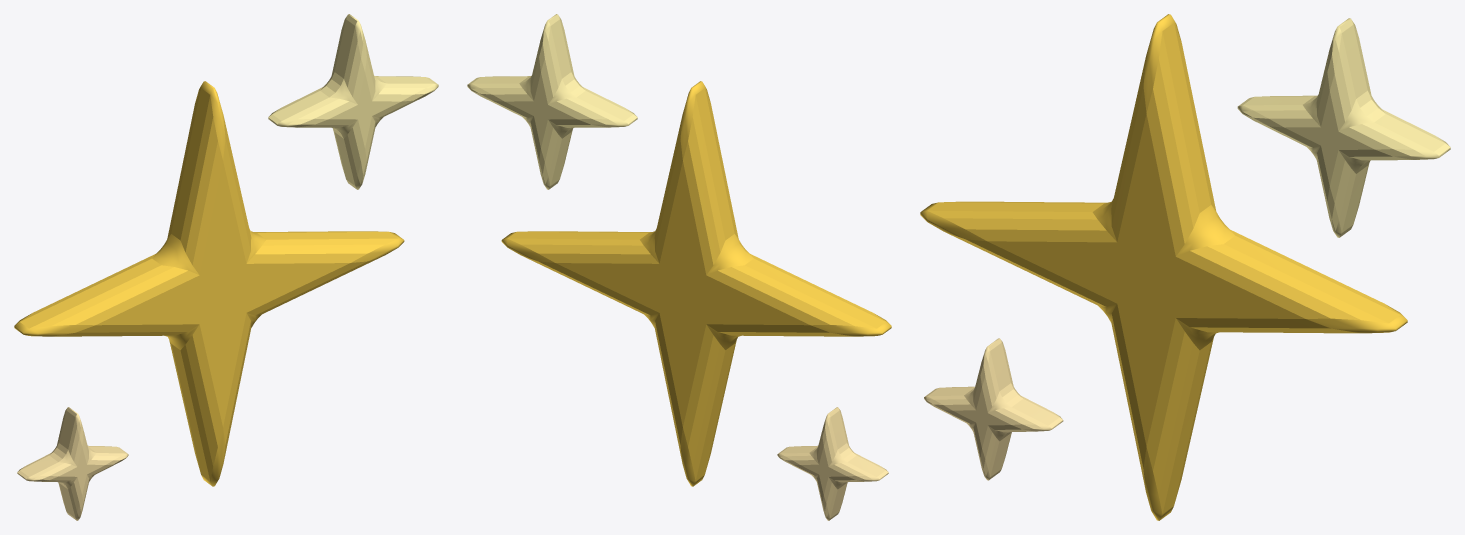
The model's file is sparkle.glb.
The picture shows the model from 3 angles, left to right: view 1: azimuth 30°, elevation 25°; view 2: azimuth 150°, elevation 25°; view 3: azimuth 330°, elevation 25°; orthographic projection. The views are drawn at different scales.
Parts seen in each view (by area): view 1: big, small, tiny; view 2: big, small, tiny; view 3: big, small, tiny.
Boxes of the visible parts, box(x1,y1,x2,y2) form: big: box(14, 81, 404, 486); small: box(268, 14, 438, 189); tiny: box(17, 407, 128, 520); big: box(501, 81, 891, 486); small: box(467, 14, 637, 189); tiny: box(777, 407, 888, 520); big: box(920, 14, 1407, 520); small: box(1237, 18, 1450, 237); tiny: box(924, 338, 1063, 480).
Bounding box in the file's own units: 1.04 × 1.03 × 0.12.
